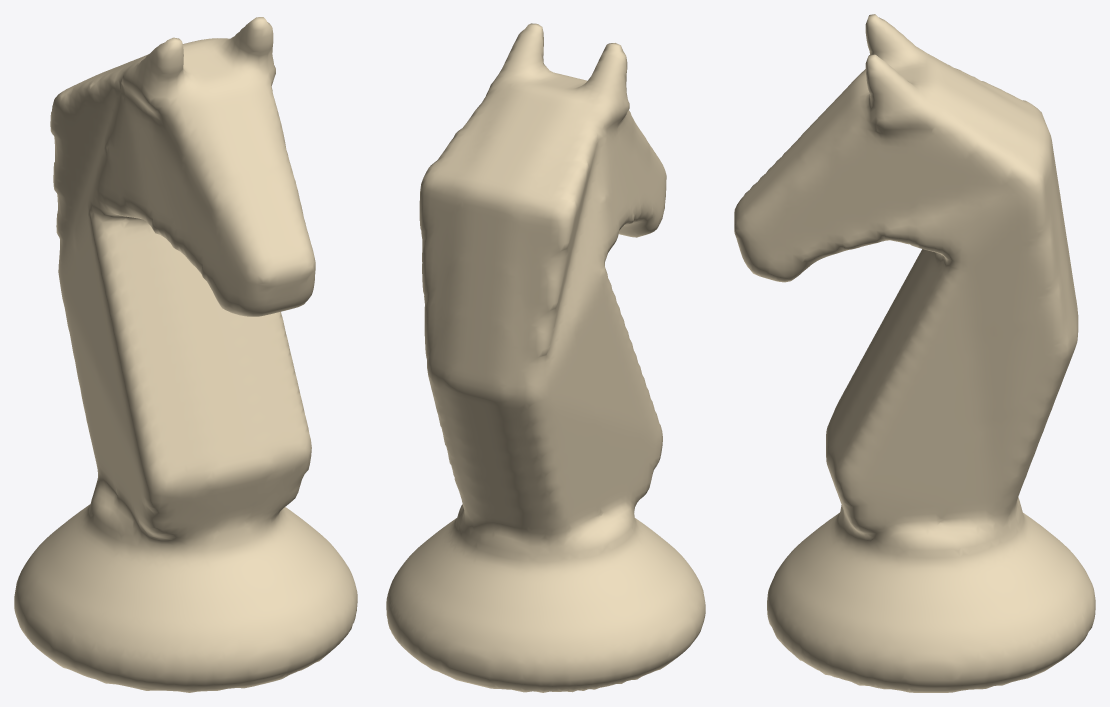
Rendered from KFB_ChessM_knight_light.r1.glb.
The picture shows the model from 3 angles, left to right: view 1: azimuth 30°, elevation 25°; view 2: azimuth 150°, elevation 25°; view 3: azimuth 270°, elevation 25°; orthographic projection. The views are drawn at different scales.
Visible parts, largest first — view 1: KFB_ChessM_knight_light; view 2: KFB_ChessM_knight_light; view 3: KFB_ChessM_knight_light.
Boxes of the visible parts, left/top/right/bottom form: KFB_ChessM_knight_light: left=14, top=17, right=357, bottom=692; KFB_ChessM_knight_light: left=386, top=23, right=705, bottom=692; KFB_ChessM_knight_light: left=734, top=14, right=1095, bottom=692.
Bounding box in the file's own units: 1.83 × 3.69 × 2.01.
